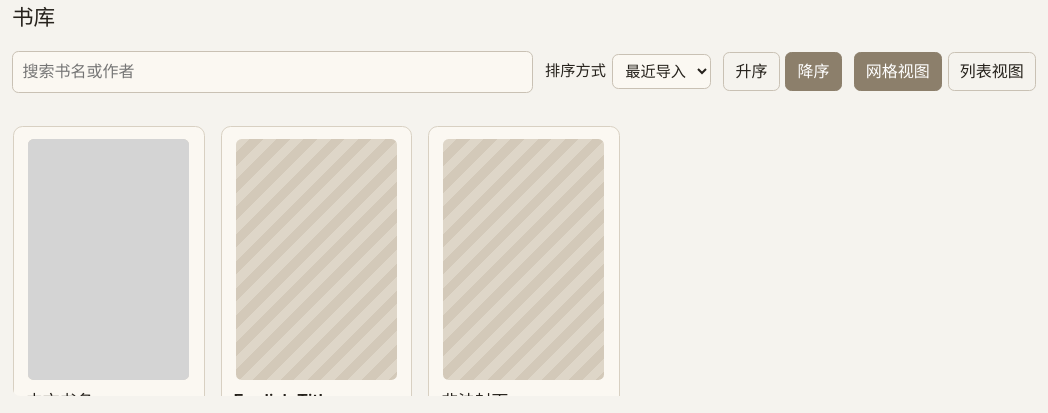
Scenario: library page › shows a distinct no-match state and clears the search
Type "不存在" into the search field labelled "搜索书名或作者" at (273, 72), box [12,50,533,92]
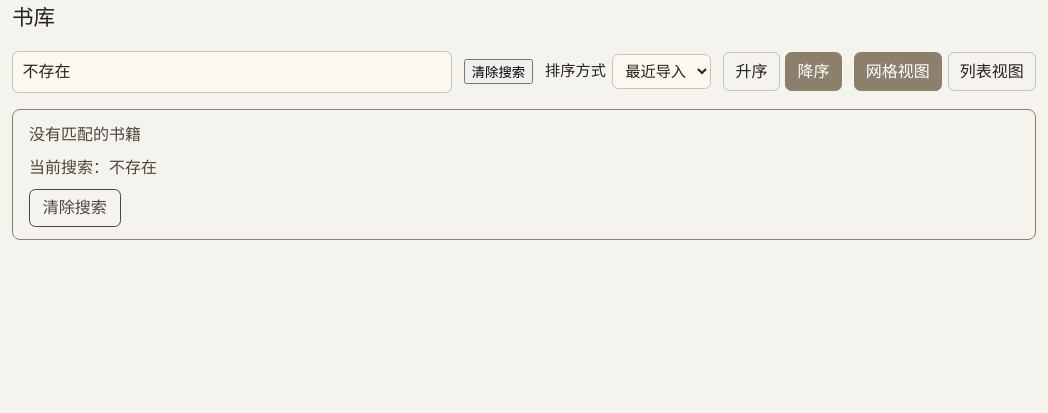
expect the text "没有匹配的书籍" is shown: met, box [29,122,141,147]
expect the text "当前搜索：不存在" is shown: met, box [29,155,157,181]
expect the button "清除搜索" next to "排序方式" is shown: met
Click the button "清除搜索" next to "排序方式" at (498, 72), box [464,59,533,84]
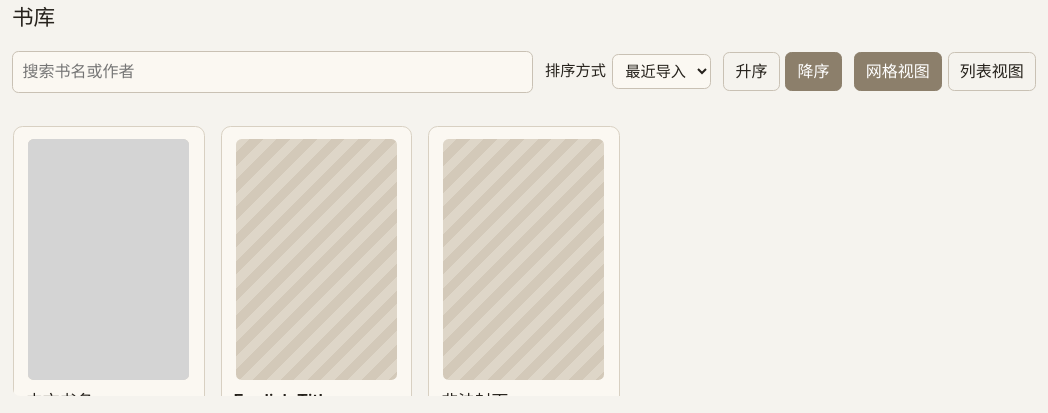
expect the text "没有匹配的书籍" is gone: met
